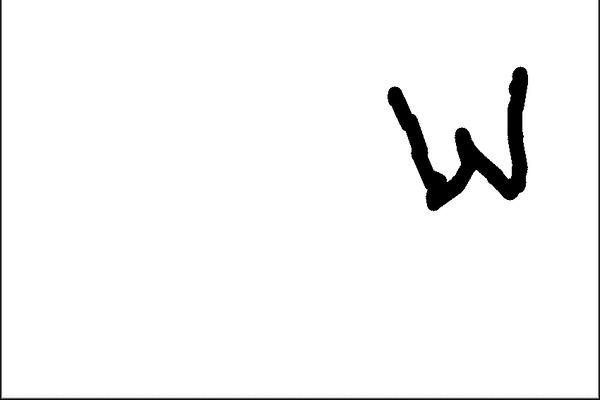w: (369, 57, 565, 216)
